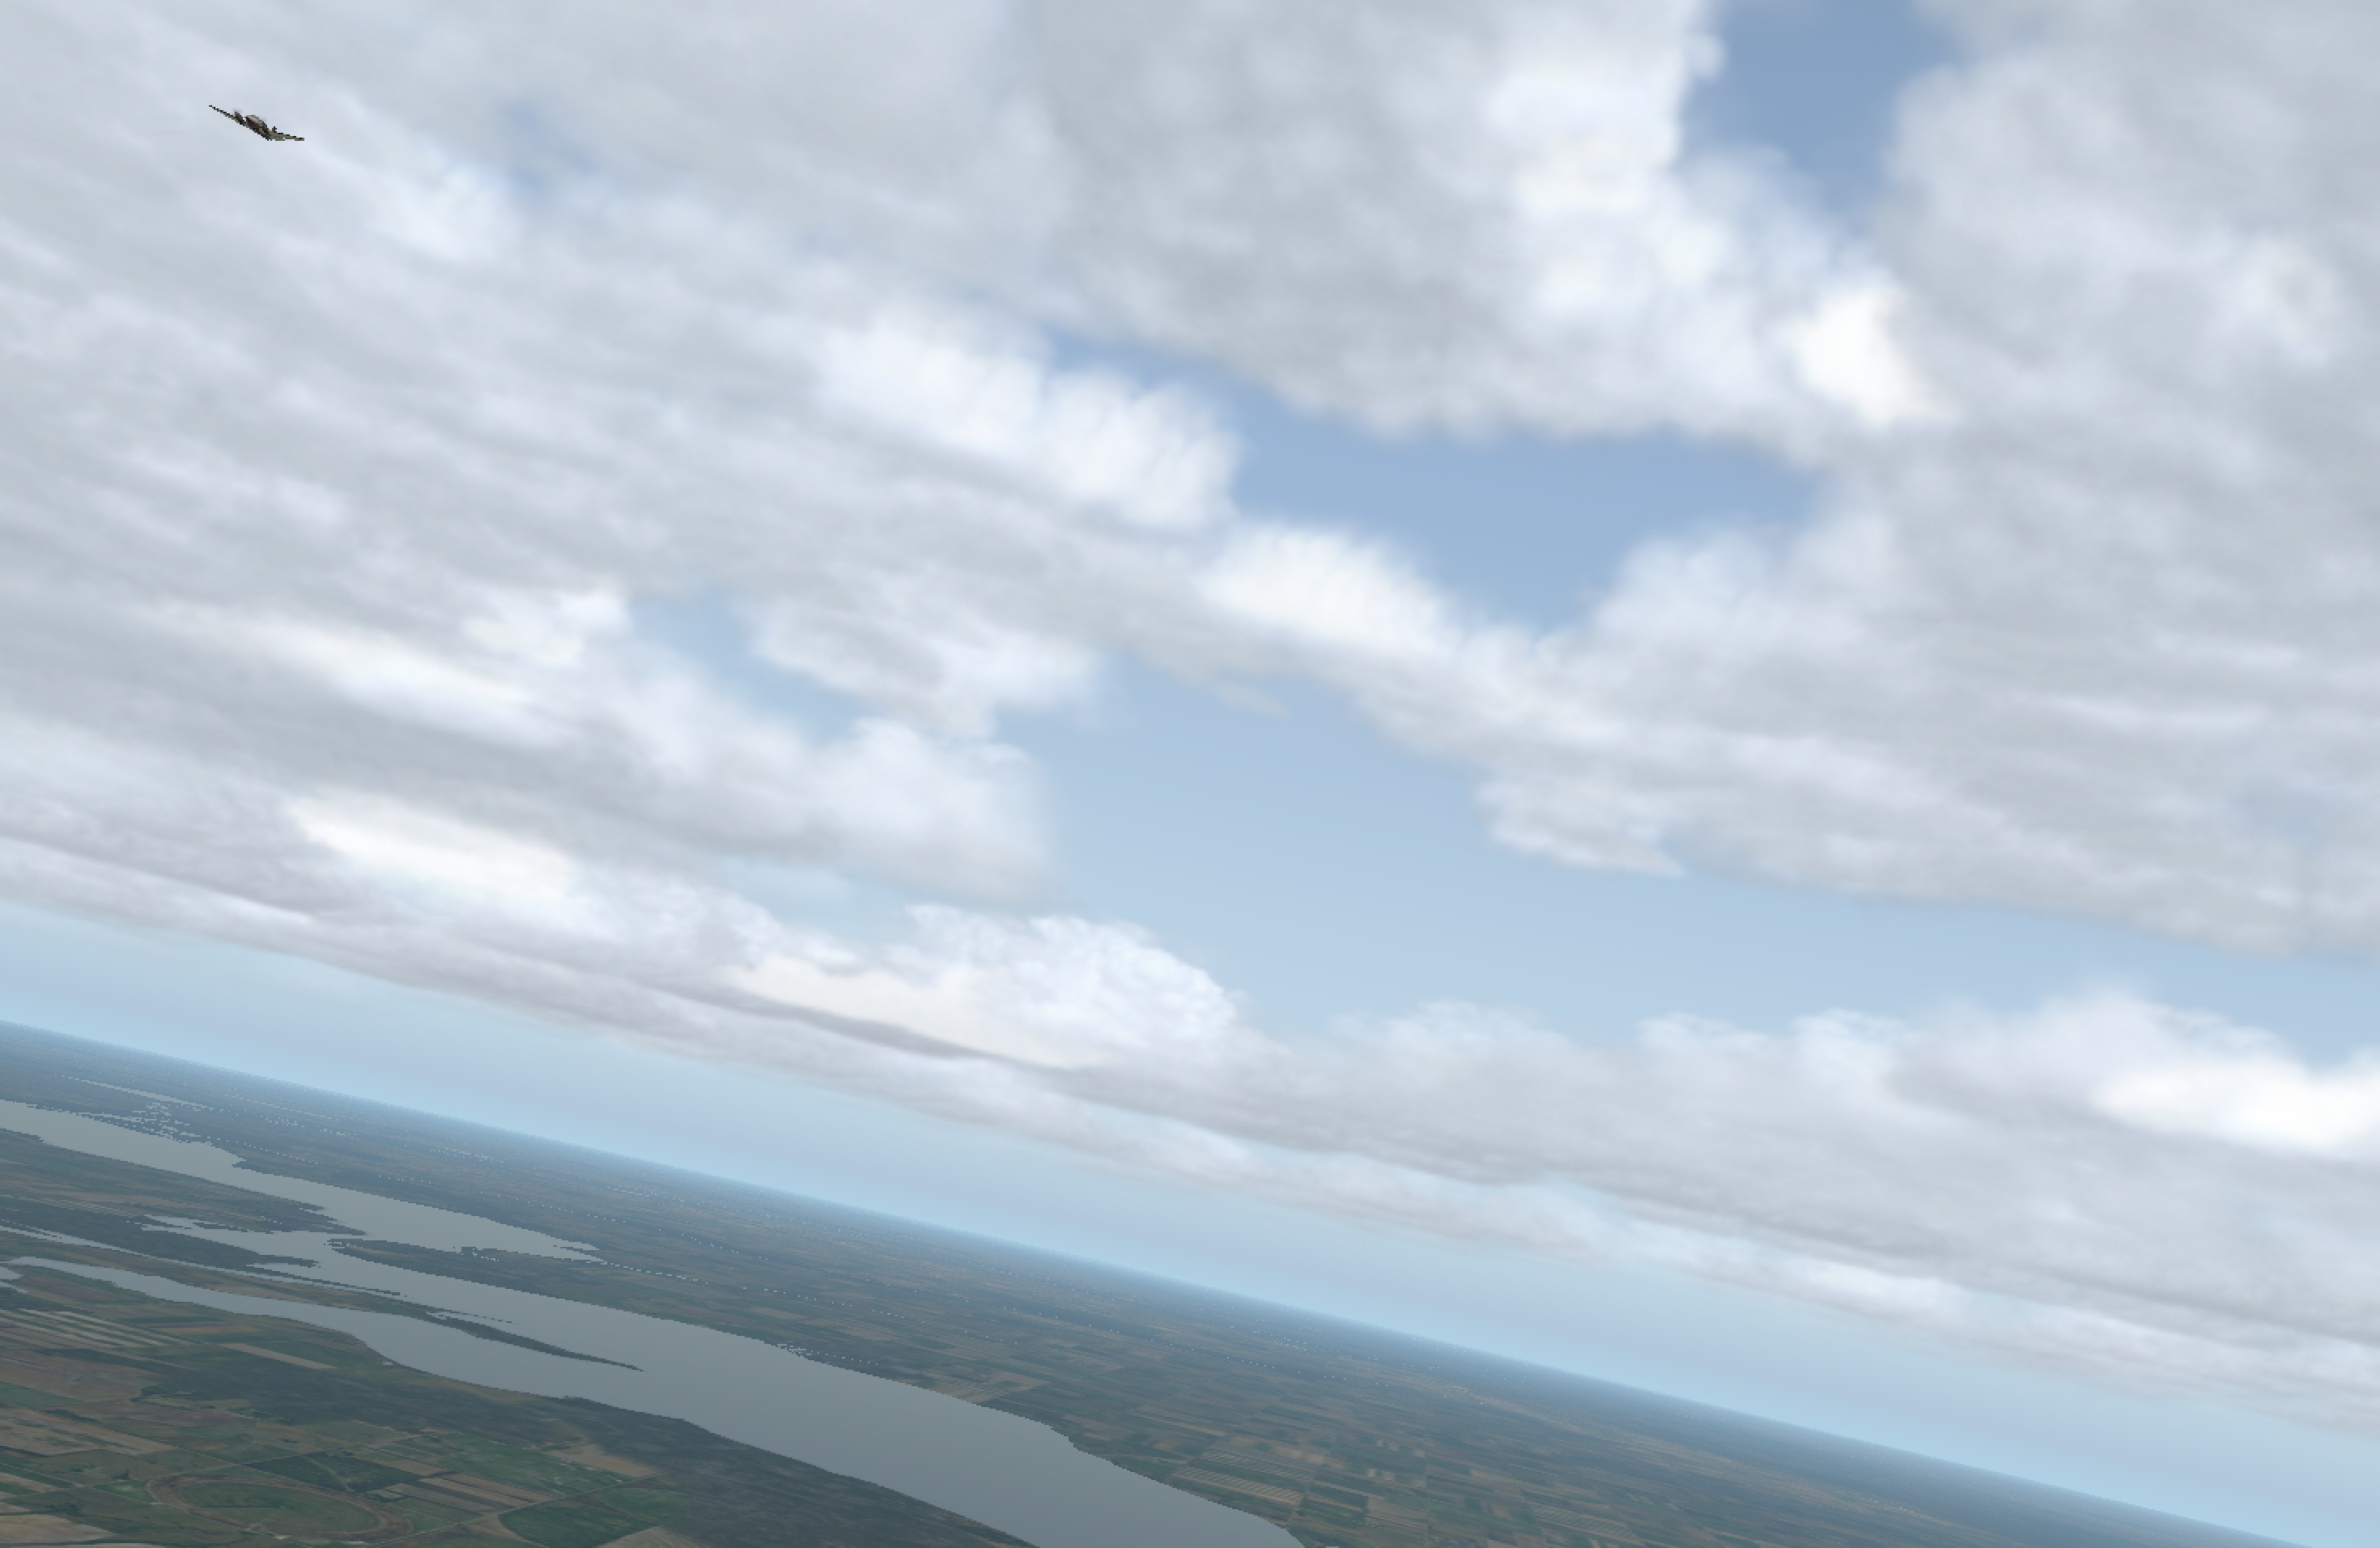aircraft: (210, 111, 297, 144)
